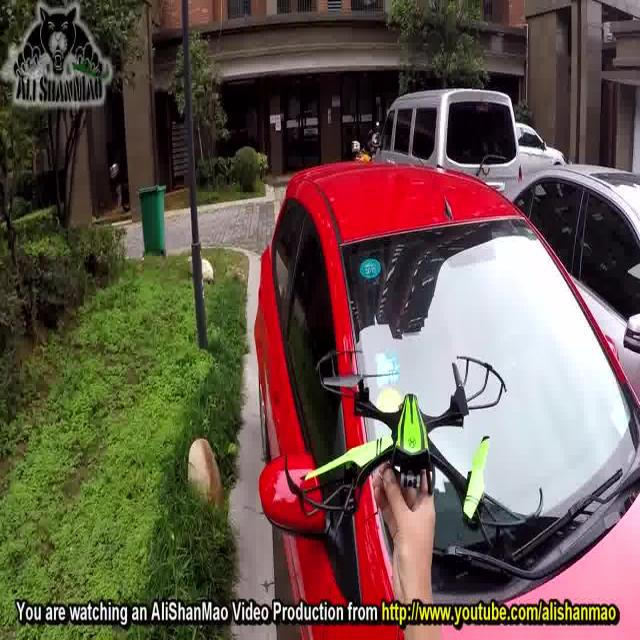drones: (281, 333, 530, 549)
